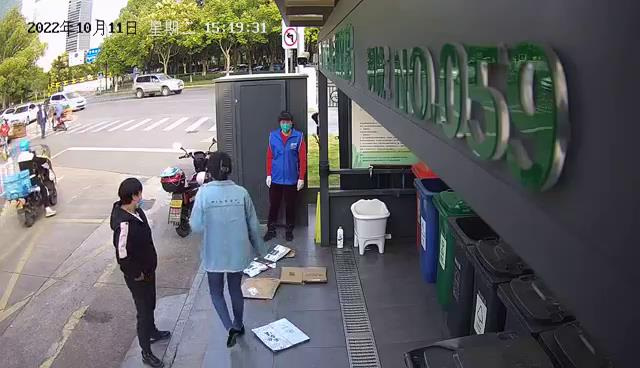person: (108, 177, 171, 368)
worker: (187, 151, 264, 349), (263, 111, 307, 241)
zhizhipin: (250, 317, 310, 352), (243, 243, 296, 277), (278, 265, 328, 285), (239, 277, 280, 300)
